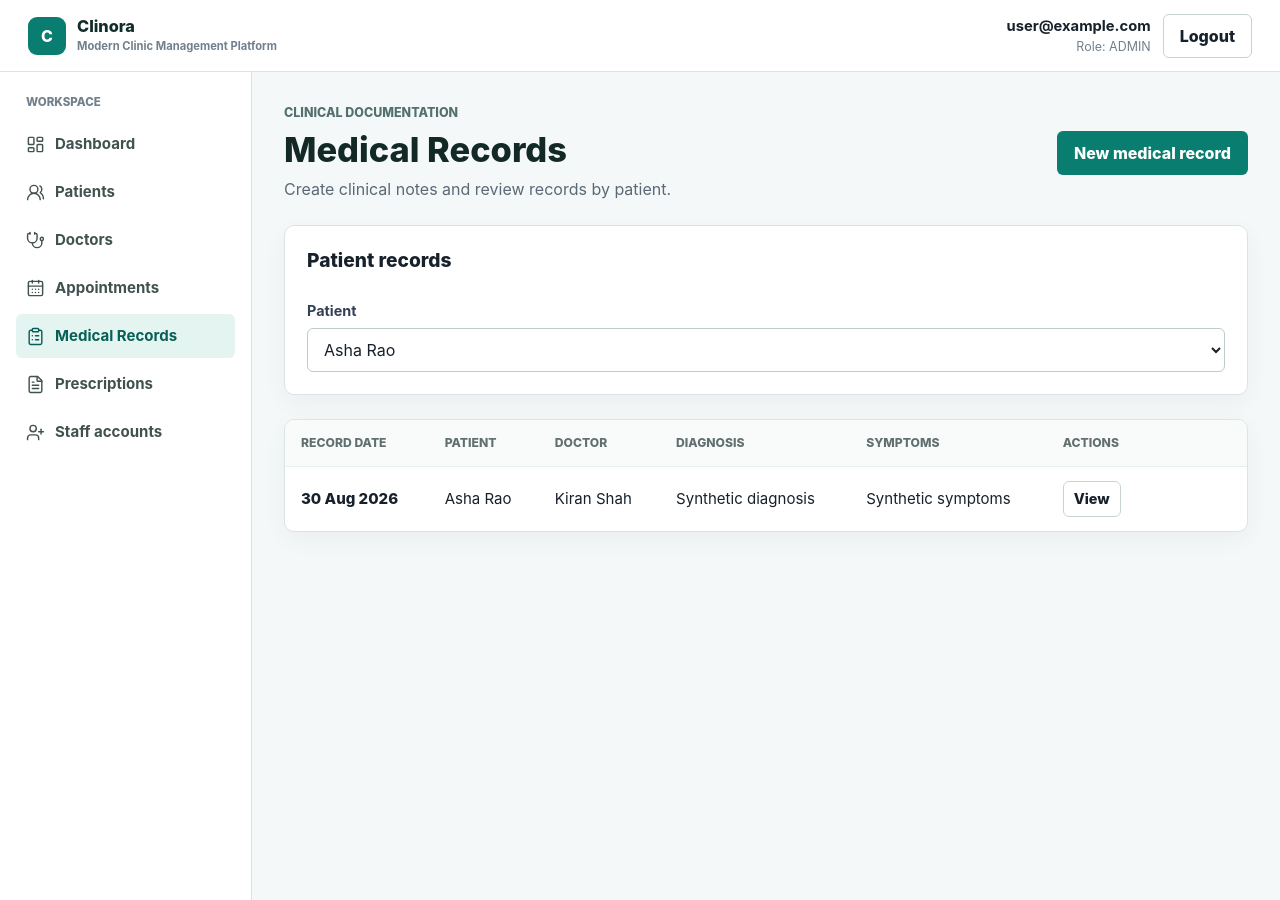
MedicalRecordsPage › retrieves a medical record detail view
The width and height of the screenshot is (1280, 900).
Click the button "View" at [1092, 499], box [1063,481,1121,517]
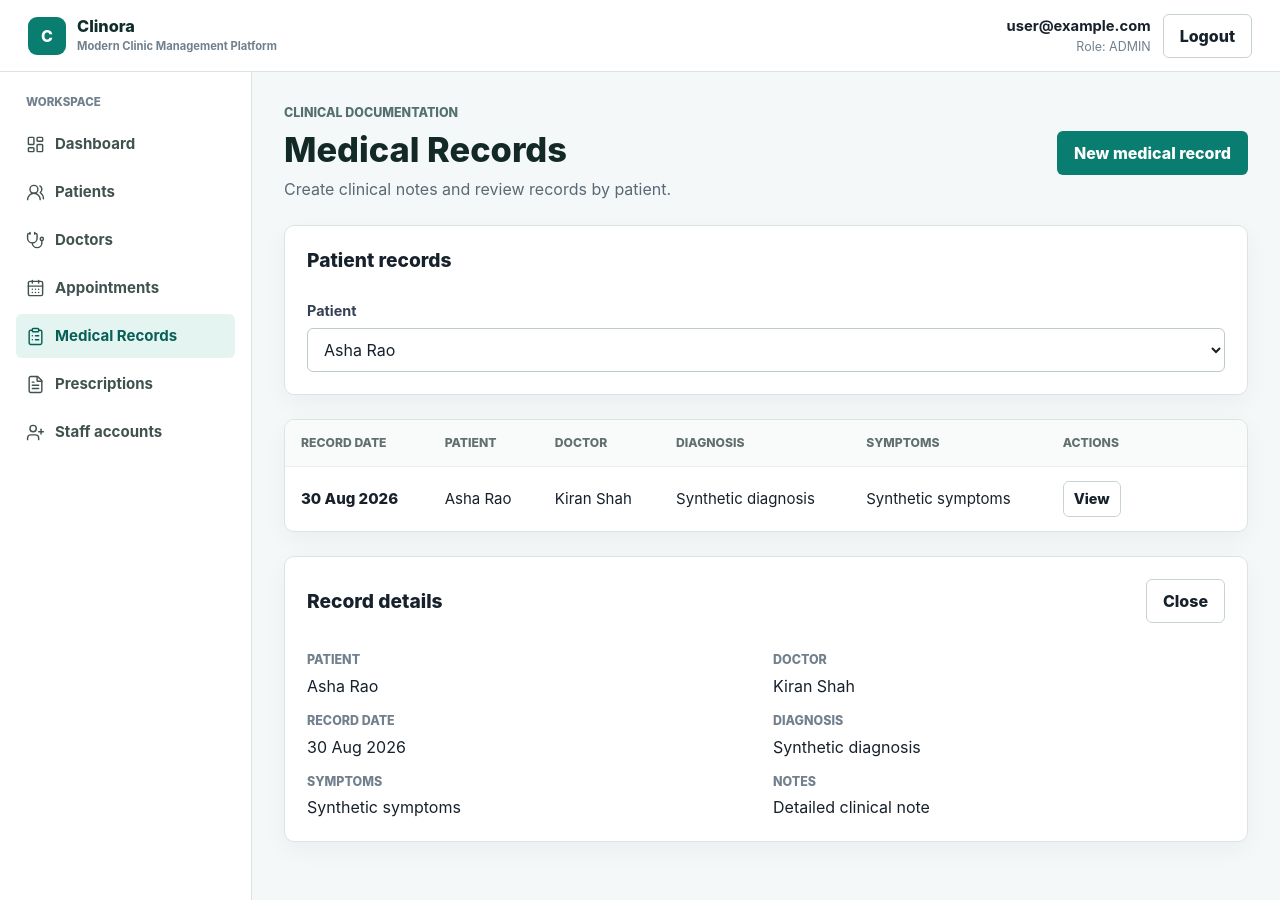
expect the heading "Record details" is shown: met, box [307,589,443,613]
expect the text "Detailed clinical note" is shown: met, box [773,797,930,817]
